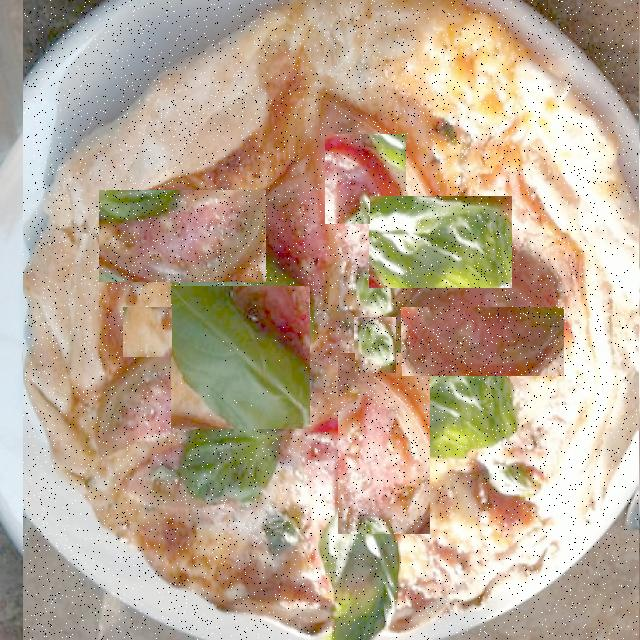Basil: (172, 286, 310, 429), (370, 196, 512, 288), (327, 0, 394, 164), (175, 142, 286, 216), (355, 317, 396, 373)
Cheese: (124, 307, 177, 357)
Tomato: (24, 0, 638, 640), (339, 353, 430, 534), (100, 190, 266, 282), (402, 308, 564, 378), (326, 134, 406, 224)
